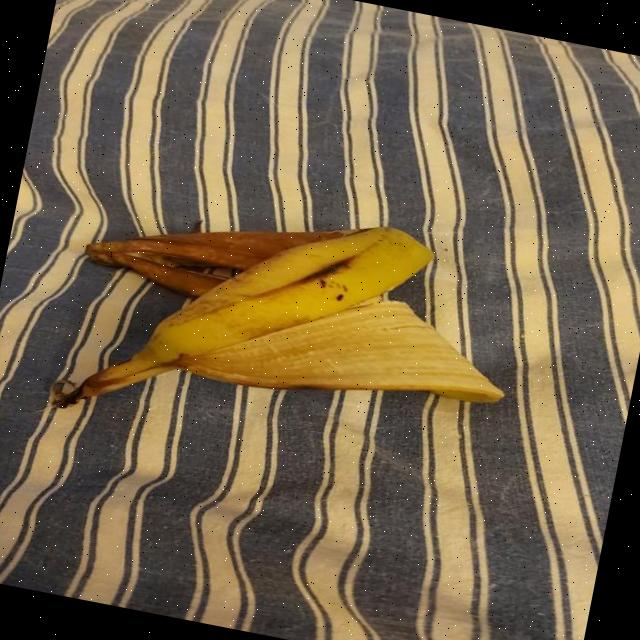banana-peel: (48, 168, 531, 490)
